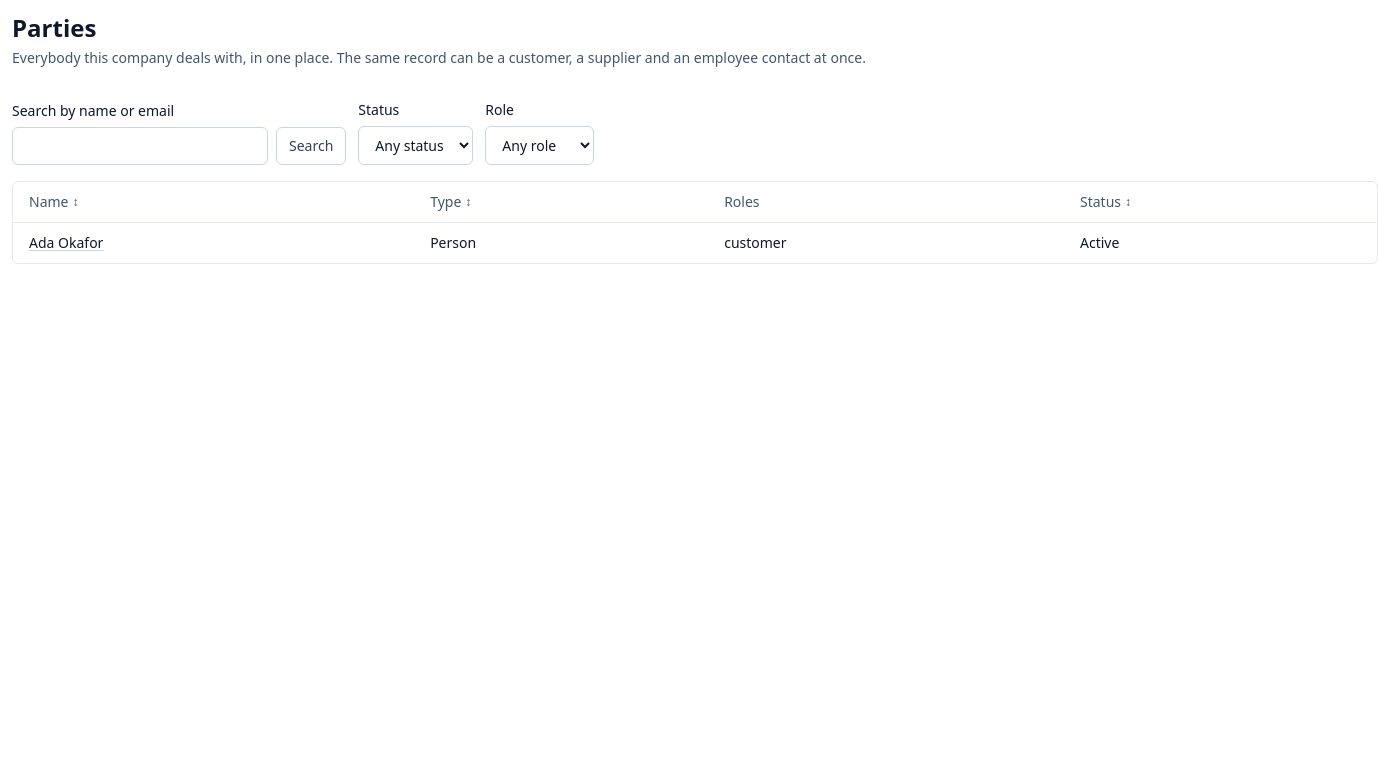
PartiesPage › managing roles › takes a role away again
This screenshot has width=1378, height=780.
What coordinates should you click on to do the following:
click the button "Ada Okafor"
I would click on:
 (66, 243)
Its box is [29, 233, 103, 253].
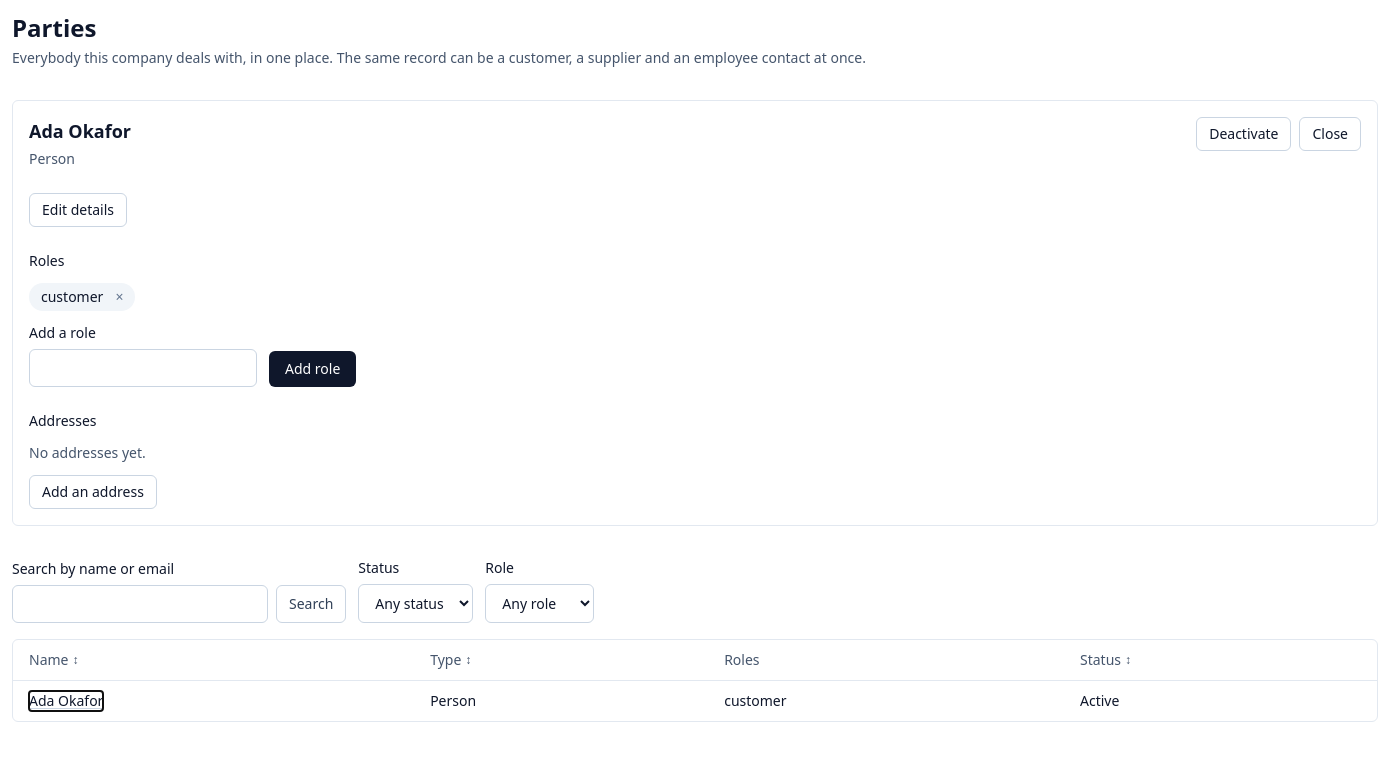
What coordinates should you click on to do the following:
click the button named "remove role customer"
I would click on:
 (119, 297)
Its box is [107, 287, 131, 307].
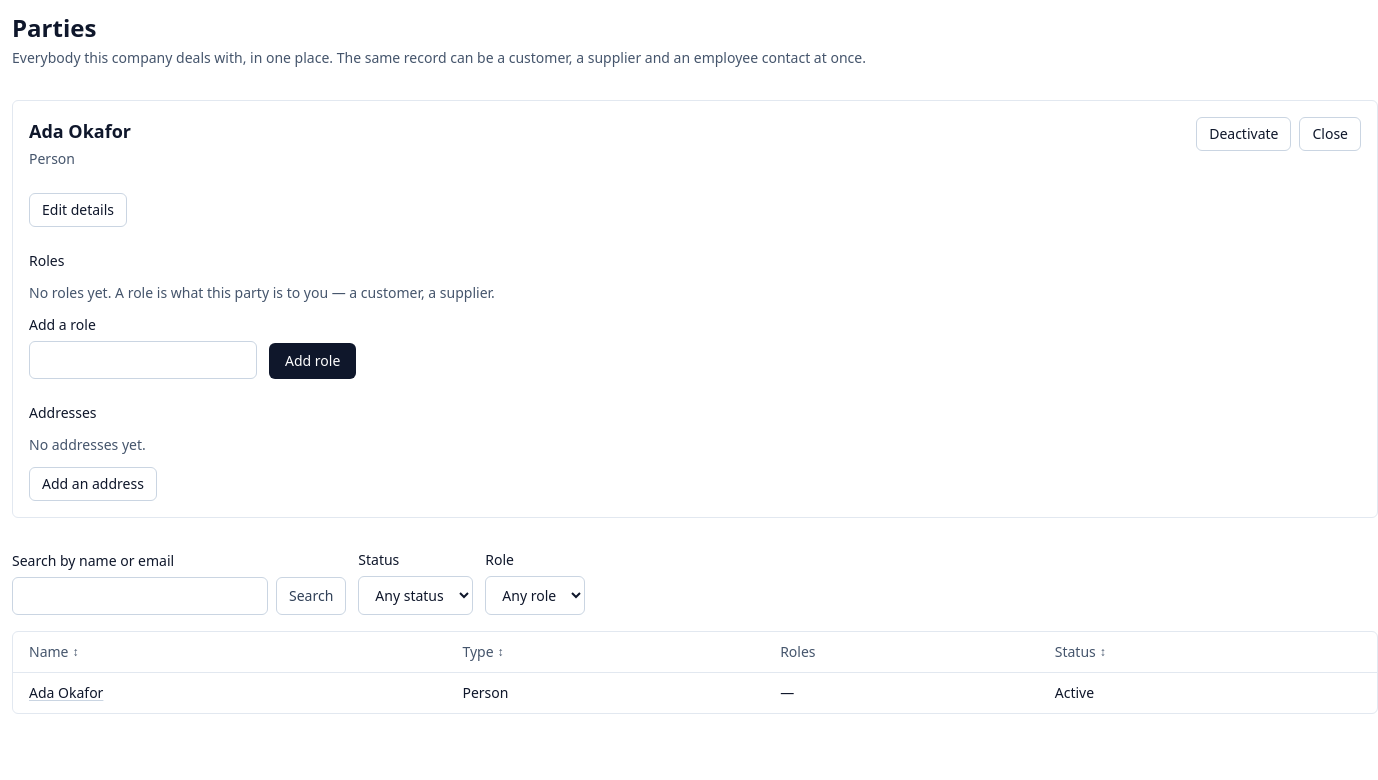
Result: the text "No roles yet" is shown at [29, 283, 495, 302]
